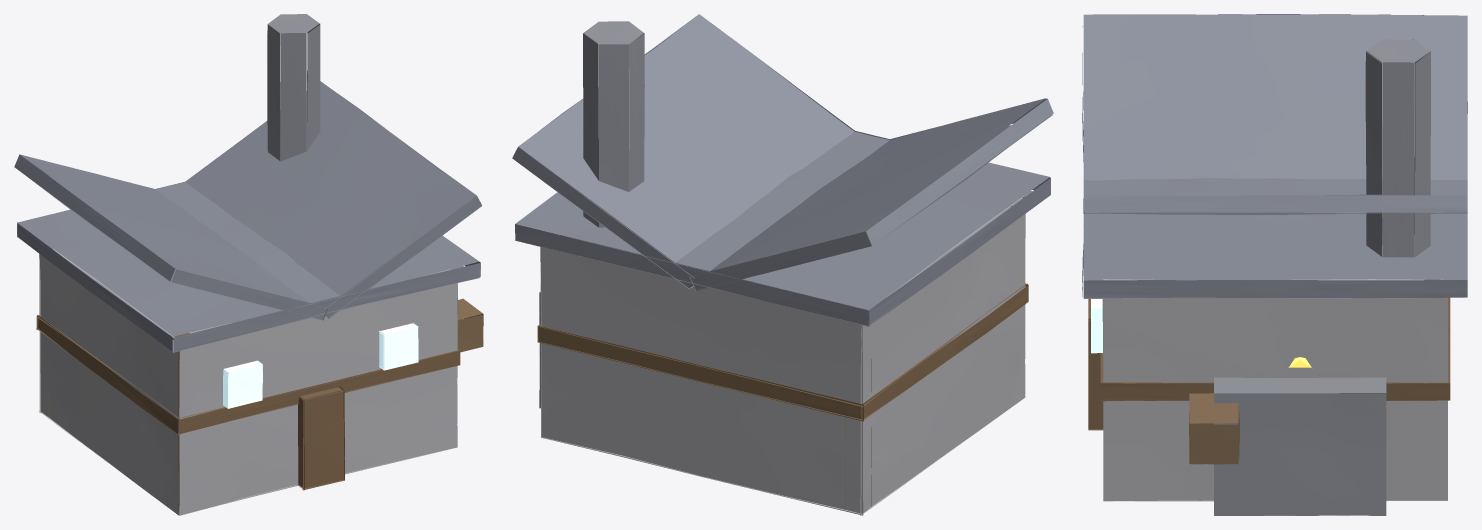
Rendered from blacksmith.glb.
3 views of the same model, side by side, from view 1: azimuth 30°, elevation 25°; view 2: azimuth 150°, elevation 25°; view 3: azimuth 270°, elevation 25° (orthographic). The views are drawn at different scales.
Visible parts, largest first — view 1: BlacksmithWall; view 2: BlacksmithWall; view 3: BlacksmithWall.
Boxes of the visible parts, <box> form: BlacksmithWall: <box>14,14,483,515</box>; BlacksmithWall: <box>512,14,1053,515</box>; BlacksmithWall: <box>1082,14,1467,515</box>.
Bounding box in the file's own units: 2.06 × 1.91 × 1.57.
